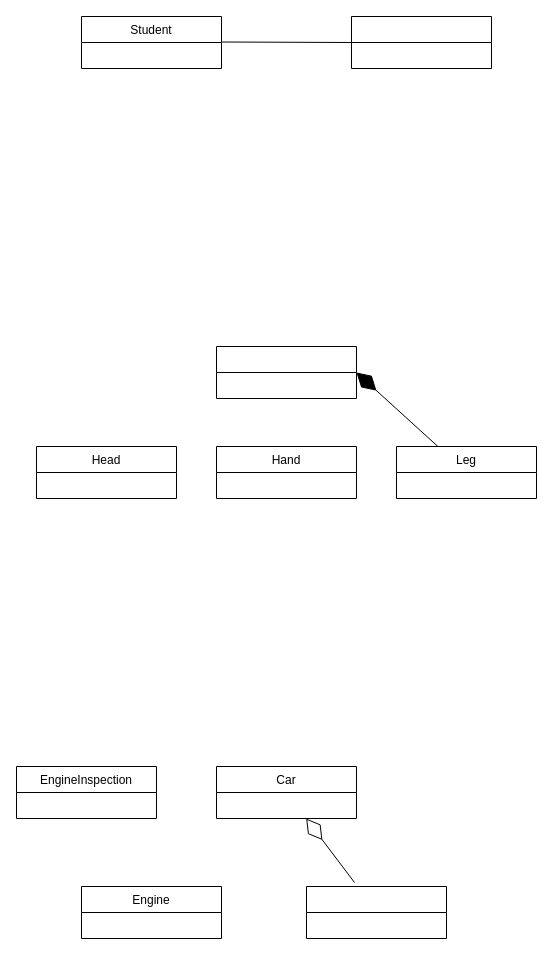
This 553x955 diagram has some shape labels left out. Each missing label, with the centre of its shape:
"Instructor" belongs at (421,42).
"Person" belongs at (286,372).
"Wheel" belongs at (376,912).
